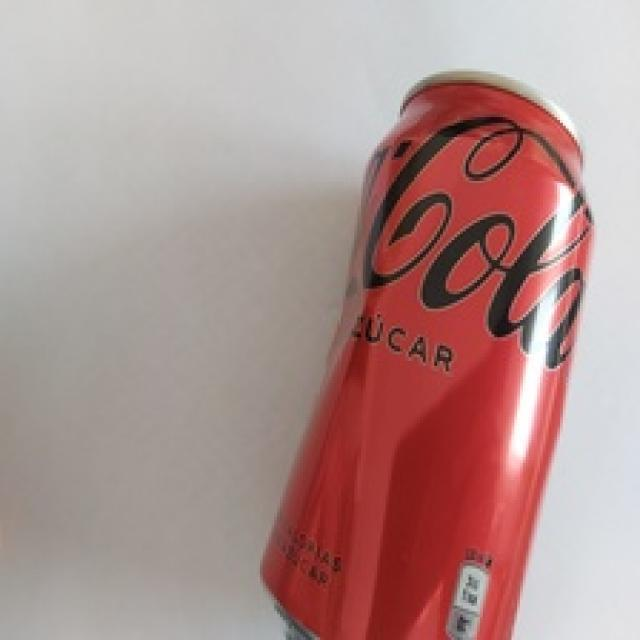recyclable: (256, 65, 600, 640)
